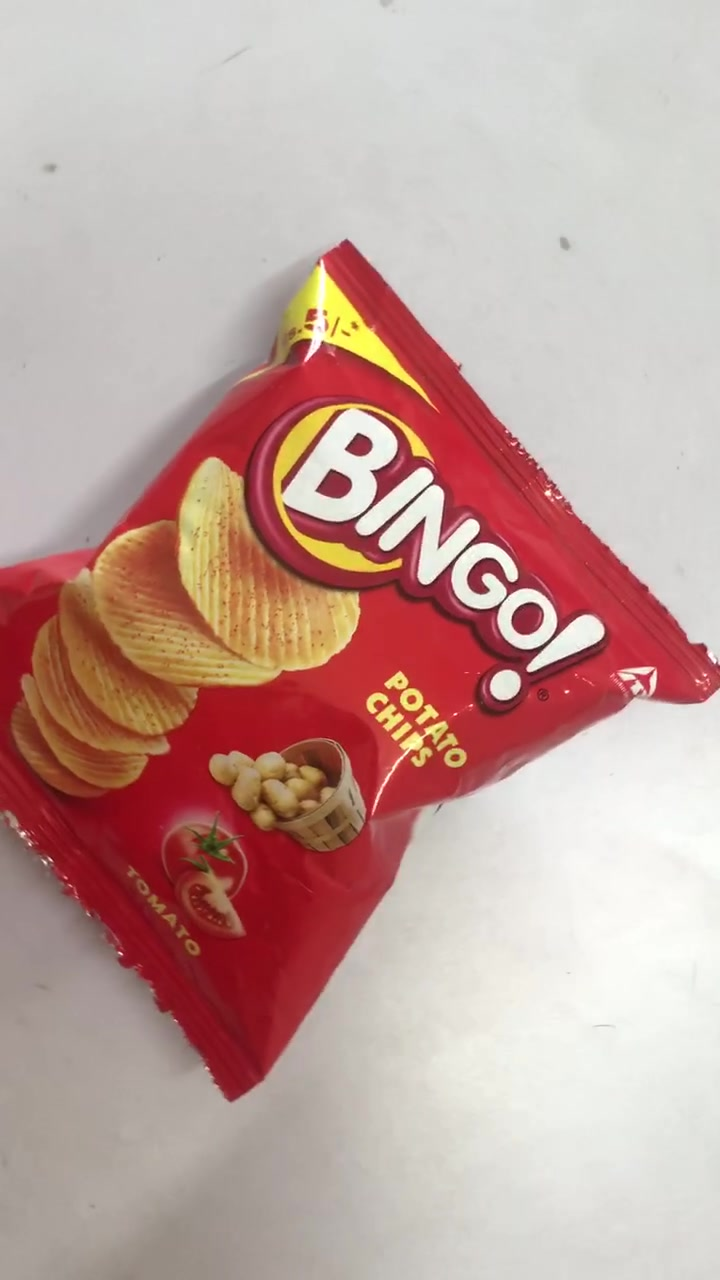Bingo: (2, 242, 714, 1112)
